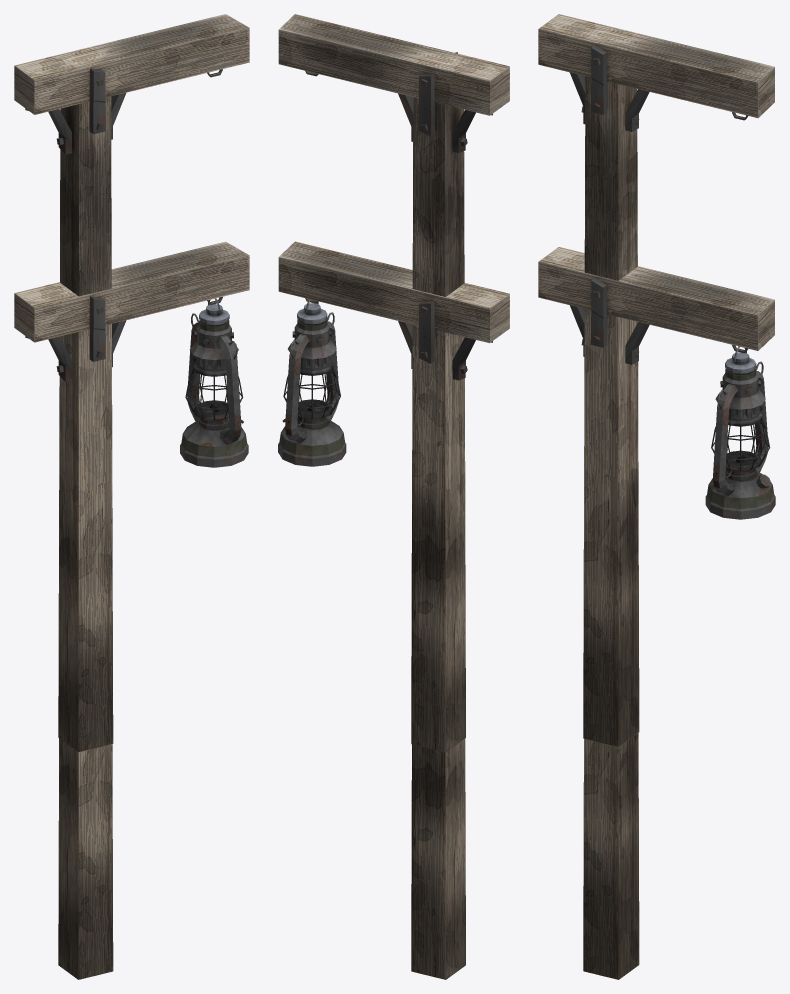
The model's file is Lamppole.glb.
The picture shows the model from 3 angles, left to right: view 1: azimuth 30°, elevation 25°; view 2: azimuth 150°, elevation 25°; view 3: azimuth 330°, elevation 25°; orthographic projection. The views are drawn at different scales.
Parts seen in each view (by area): view 1: Lamppole, NewOffset, lantern; view 2: Lamppole, NewOffset, lantern; view 3: Lamppole, NewOffset, lantern.
Boxes of the visible parts, x1,y1,x2,y2 form: Lamppole: (14, 14, 249, 752); NewOffset: (14, 241, 249, 979); lantern: (180, 298, 248, 467); Lamppole: (278, 14, 509, 752); NewOffset: (278, 241, 509, 979); lantern: (278, 299, 346, 466); Lamppole: (538, 14, 774, 746); NewOffset: (538, 247, 774, 979); lantern: (705, 346, 775, 519).
Size of the model in its own units: 1 by 4 by 0.4207.
Materials: 2 (2 with a texture image).
